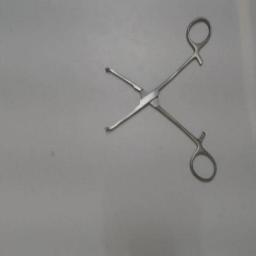Allis Tissue Forceps: (102, 13, 222, 185)
